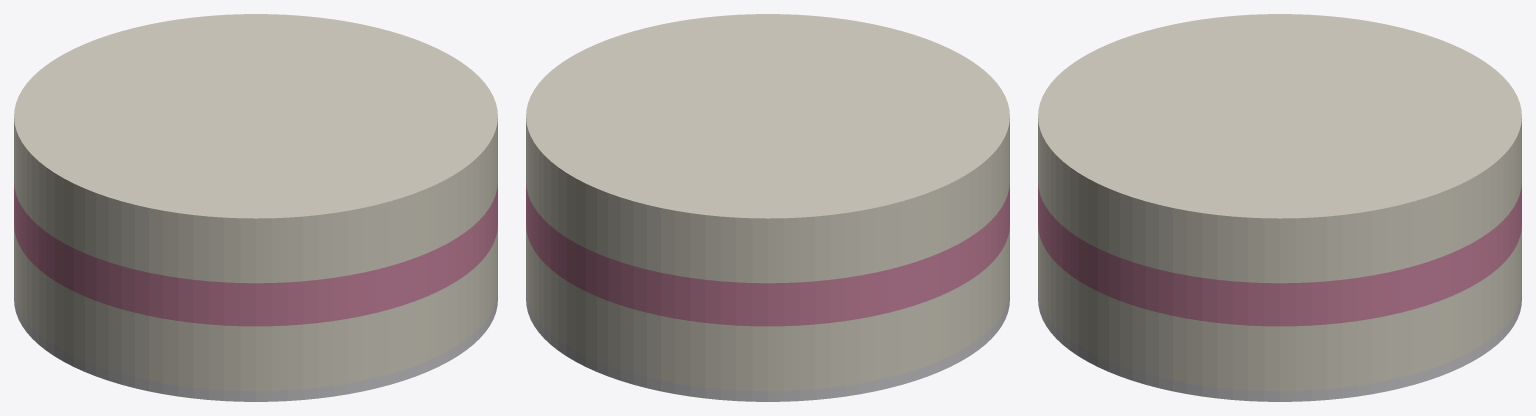
File: cake_8in_layers2.glb
The picture shows the model from 3 angles, left to right: view 1: azimuth 30°, elevation 25°; view 2: azimuth 150°, elevation 25°; view 3: azimuth 270°, elevation 25°; orthographic projection.
Visible parts, largest first — view 1: geometry_2, geometry_0, geometry_1, geometry_3; view 2: geometry_2, geometry_0, geometry_1, geometry_3; view 3: geometry_2, geometry_0, geometry_1, geometry_3.
Part boxes in pixels (x1,y1,x2,y2): geometry_2: (14,14,497,283); geometry_0: (14,226,497,391); geometry_1: (14,183,497,326); geometry_3: (14,291,497,401); geometry_2: (526,14,1009,283); geometry_0: (526,226,1009,391); geometry_1: (526,183,1009,326); geometry_3: (526,291,1009,401); geometry_2: (1038,14,1521,283); geometry_0: (1038,226,1521,391); geometry_1: (1038,183,1521,326); geometry_3: (1038,291,1521,401).
Bounding box in the file's own units: 0.2032 × 0.085 × 0.2032.
